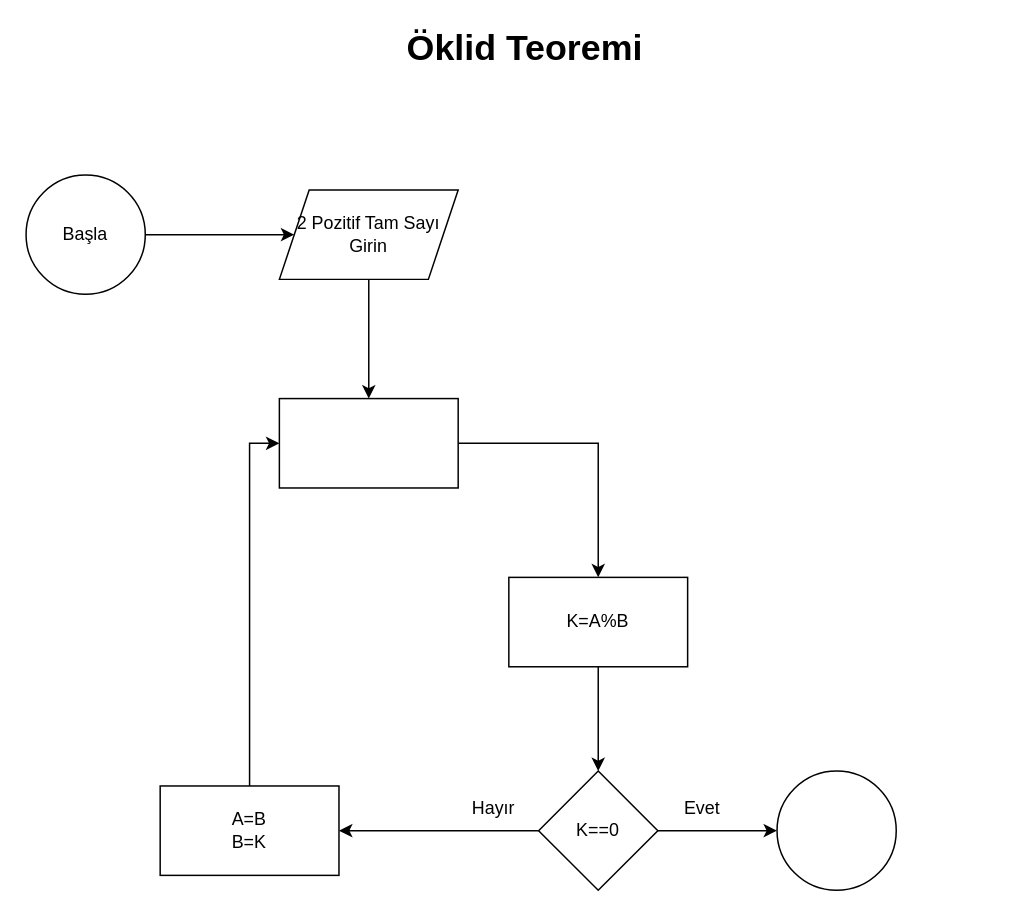
This 1021x916 diagram has some shape labels left out. Here are the shapes that lost their labels. From the top down, the centre of each, then its label:
the point at 368,442: A= Büyük Sayı B= Küçük Sayı
the point at 836,830: B=Ortak Bölenlerin En Büyüğü
